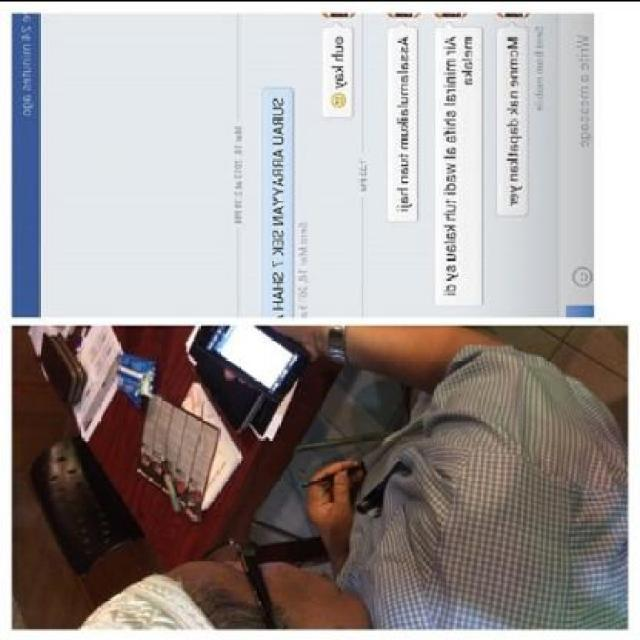phone: (199, 321, 313, 404)
